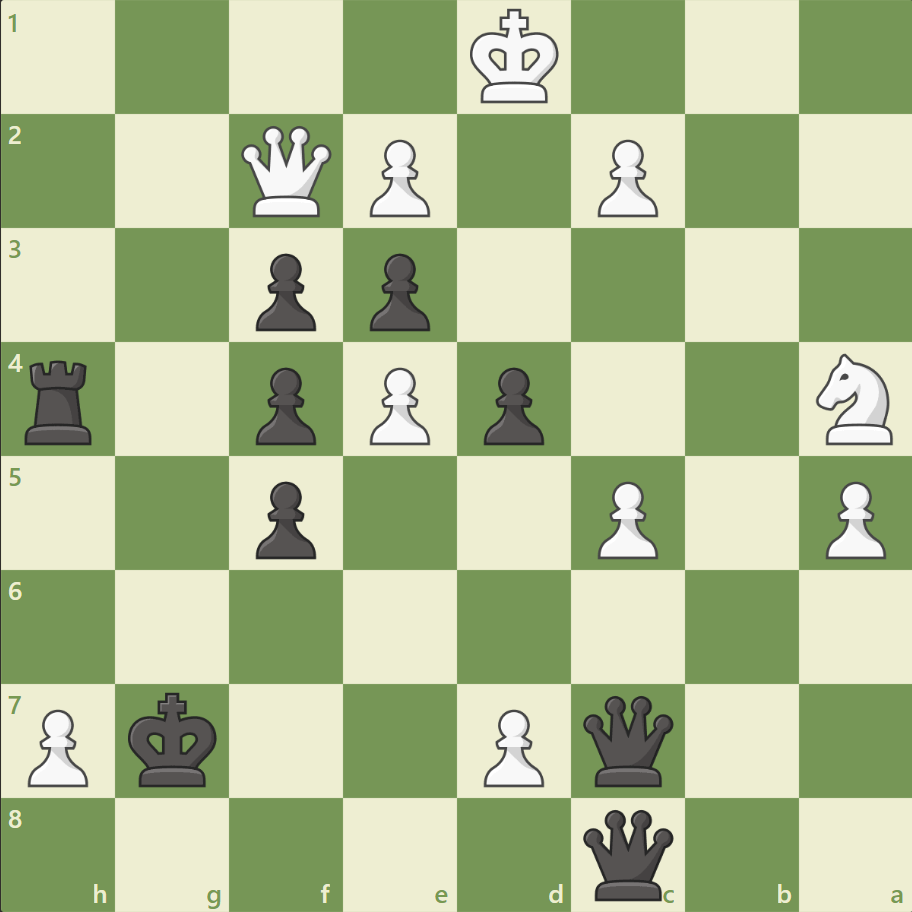K: (465, 4, 565, 112)
N: (806, 348, 903, 450)
P: (474, 700, 549, 791), (20, 700, 95, 791), (815, 473, 889, 564), (588, 473, 662, 564), (361, 359, 435, 450), (588, 132, 662, 223), (361, 132, 435, 223)
Q: (237, 122, 336, 222)
k: (124, 685, 224, 793)
p: (247, 473, 322, 564), (474, 359, 549, 450), (247, 359, 322, 450), (247, 246, 322, 337), (361, 246, 435, 337)
q: (578, 804, 677, 903), (578, 690, 677, 789)
r: (19, 352, 102, 449)
